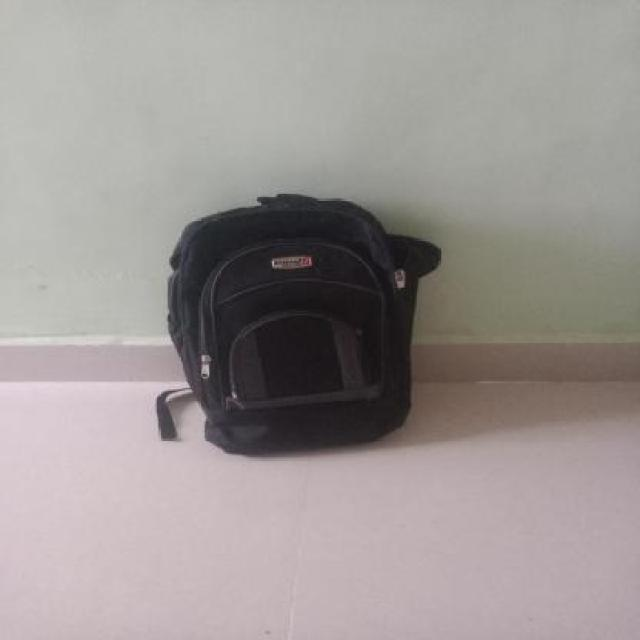backpack: (154, 189, 443, 462)
